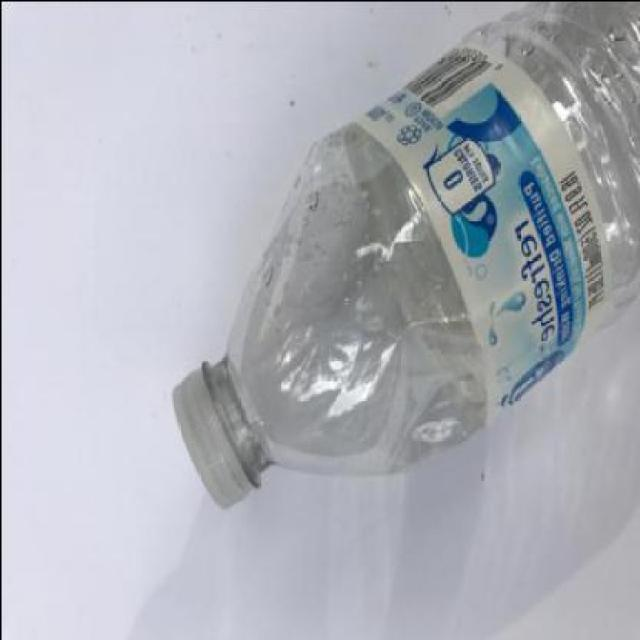PLASTIC: (171, 1, 638, 512), (339, 32, 604, 430), (168, 361, 261, 512)
